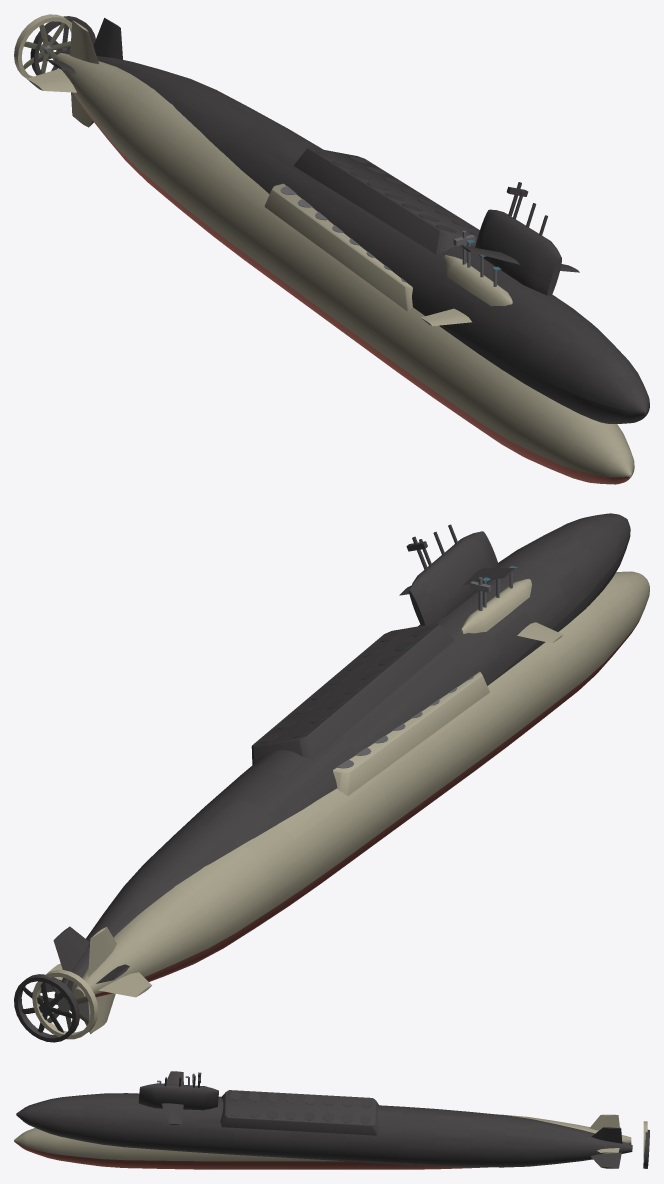
The model's file is nuclearSub__triomphant_class.glb.
The picture shows the model from 3 angles, top to bottom: view 1: azimuth 30°, elevation 25°; view 2: azimuth 150°, elevation 25°; view 3: azimuth 270°, elevation 25°; orthographic projection. The views are drawn at different scales.
Parts seen in each view (by area): view 1: Hull_Mesh, Wreck; view 2: Hull_Mesh, Wreck; view 3: Wreck, Hull_Mesh.
Boxes of the visible parts, left/top/right/bottom form: Hull_Mesh: left=14, top=14, right=634, bottom=484; Wreck: left=30, top=16, right=649, bottom=423; Hull_Mesh: left=32, top=566, right=649, bottom=1039; Wreck: left=14, top=513, right=630, bottom=1042; Wreck: left=16, top=1071, right=649, bottom=1168; Hull_Mesh: left=14, top=1076, right=647, bottom=1169.
Size of what is drawn, in the model's own units: 20.27 by 25.95 by 136.
